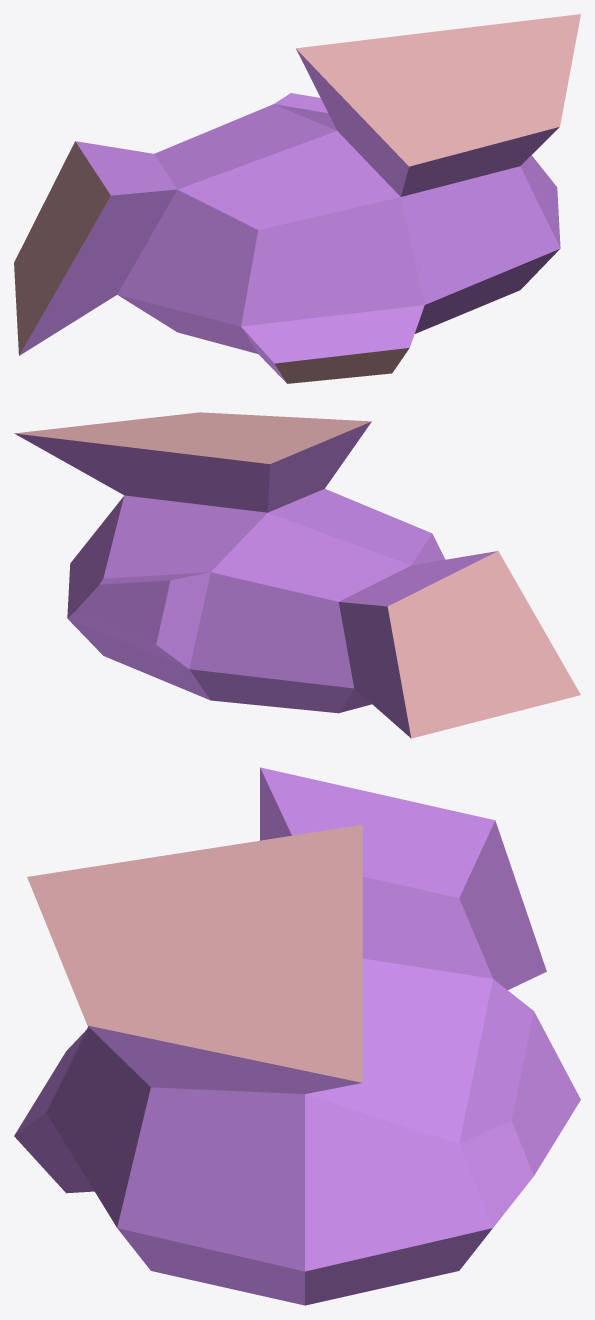
File: squid_meat.glb
3 renders of one model, top to bottom at view 1: azimuth 30°, elevation 25°; view 2: azimuth 150°, elevation 25°; view 3: azimuth 270°, elevation 25°, orthographic. The views are drawn at different scales.
Parts seen in each view (by area): view 1: Cube.033; view 2: Cube.033; view 3: Cube.033.
Boxes of the visible parts, bbox=[...] form: Cube.033: bbox=[14, 14, 580, 383]; Cube.033: bbox=[14, 412, 580, 738]; Cube.033: bbox=[14, 767, 580, 1305].
Size of the model in its own units: 0.2807 by 0.1151 by 0.1561.
